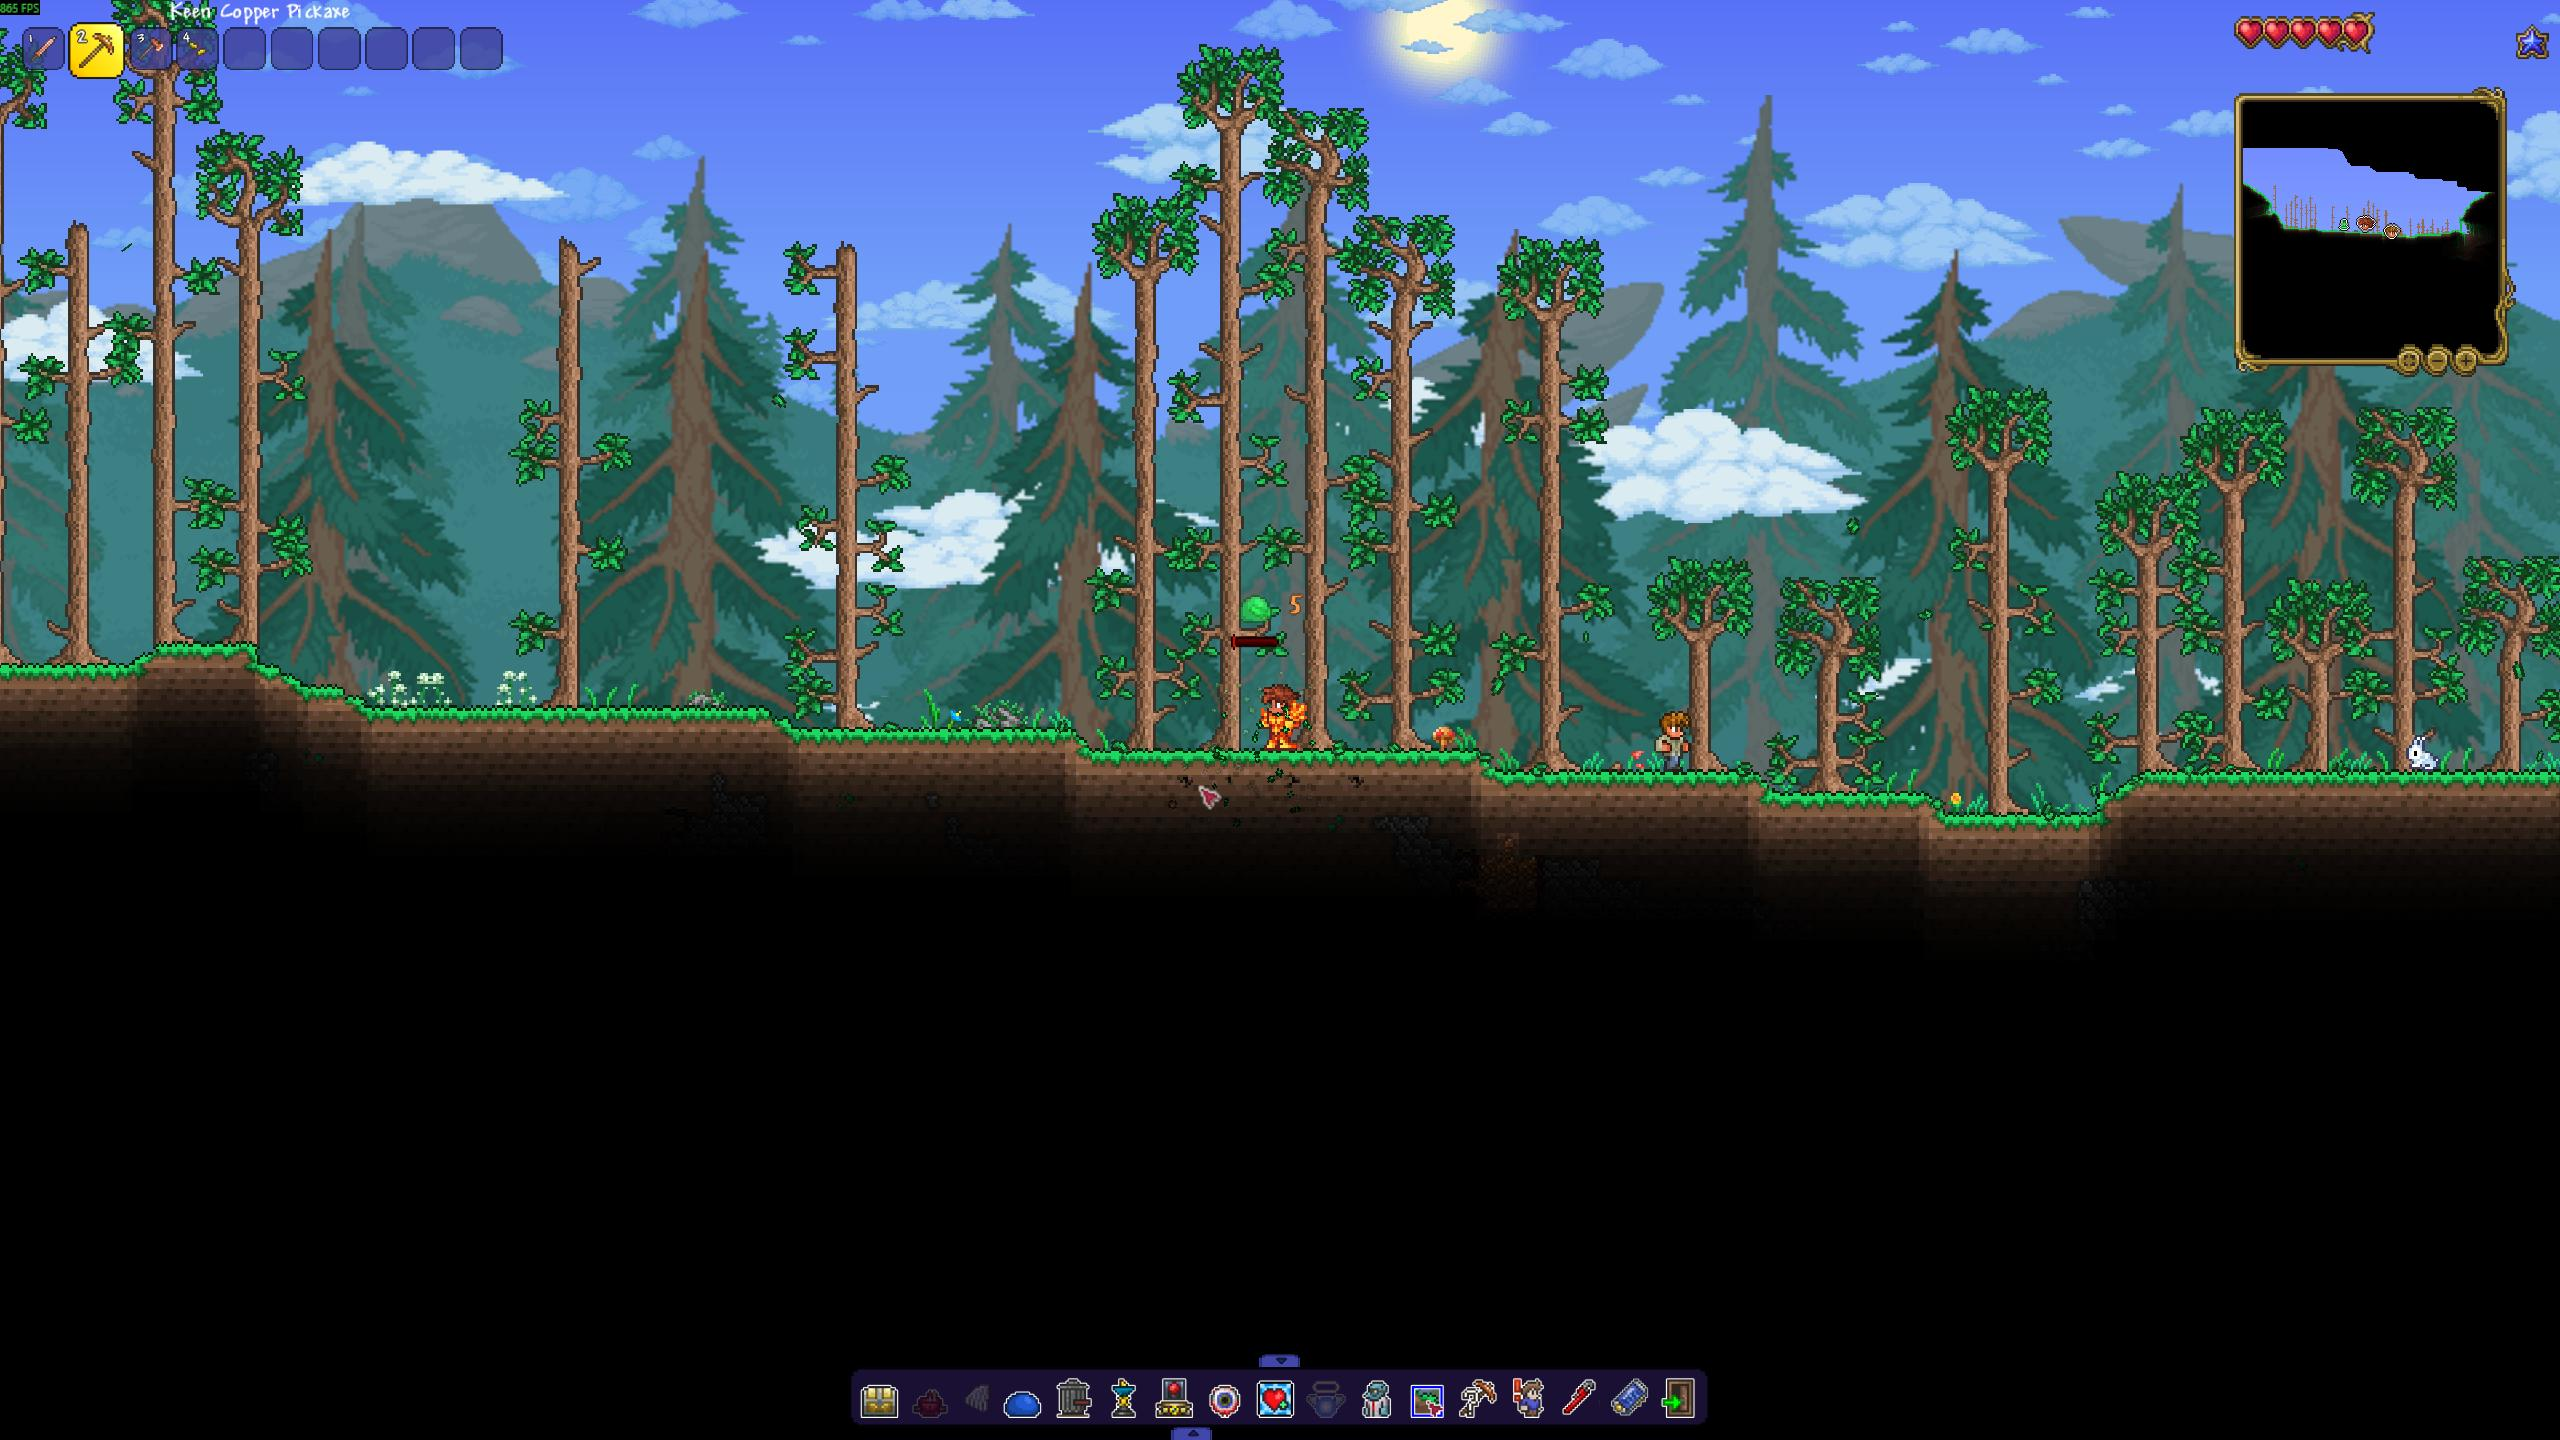Green Slime: (1238, 594, 1273, 626)
